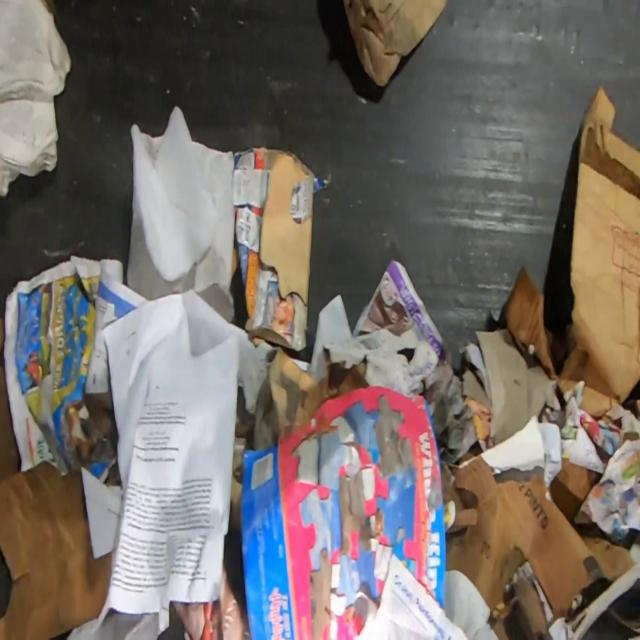cardboard: (502, 83, 640, 417), (0, 317, 112, 640), (233, 145, 331, 351), (342, 0, 449, 87), (574, 438, 640, 540)
